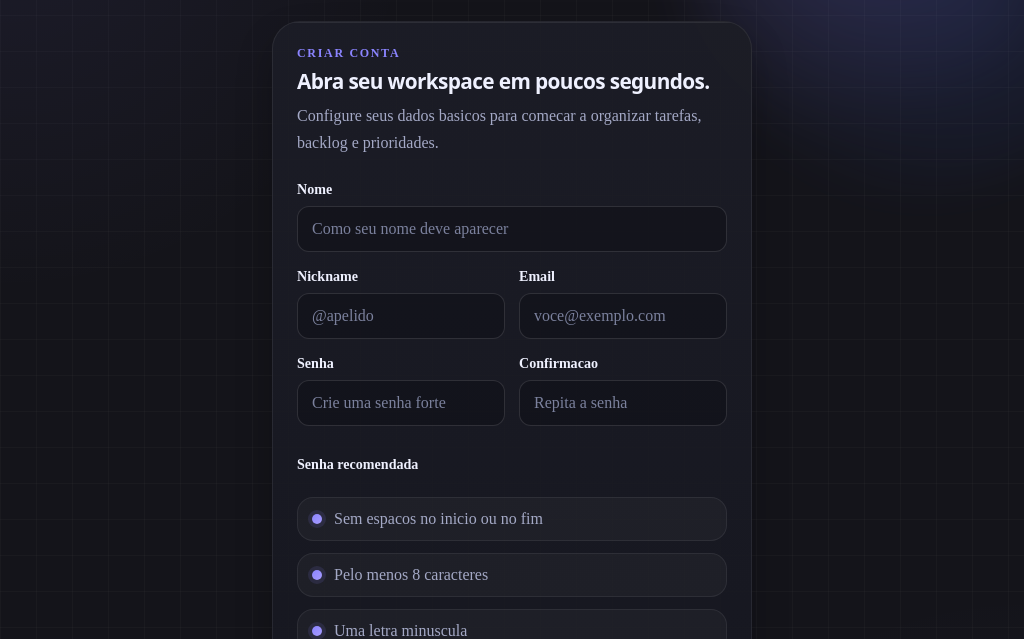
Test: App smoke flows › blocks weak passwords before submitting the register form
expect the heading "Abra seu workspace em poucos segundos." is shown: met, box [297,71,727,92]
Type "Teste QA" into the field labelled "Nome" at [512, 229], box [297,206,727,252]
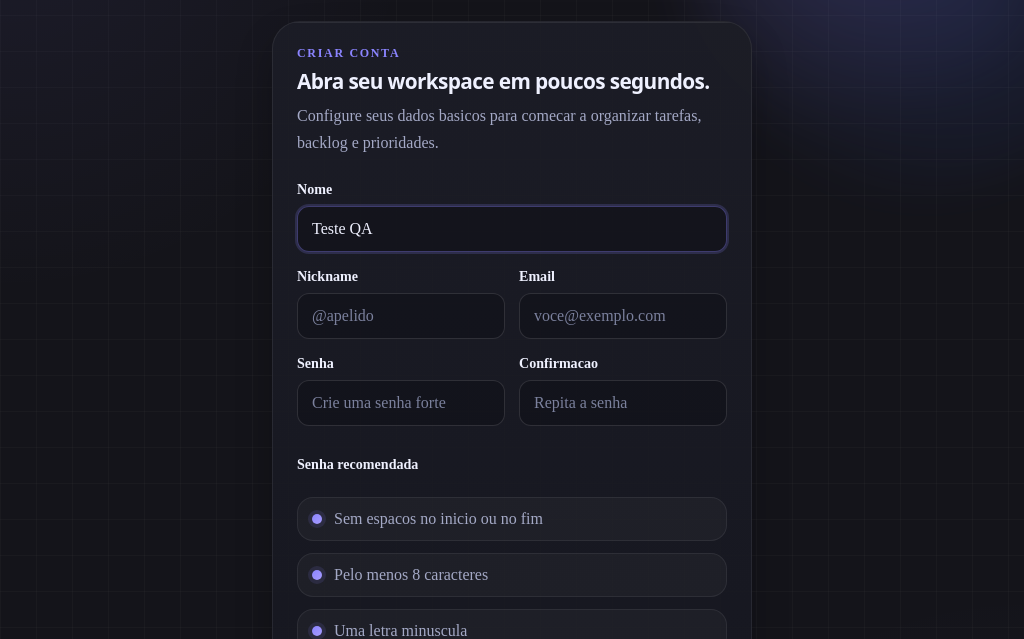
Type "teste-qa" into the field labelled "Nickname" at [401, 316], box [297,293,505,339]
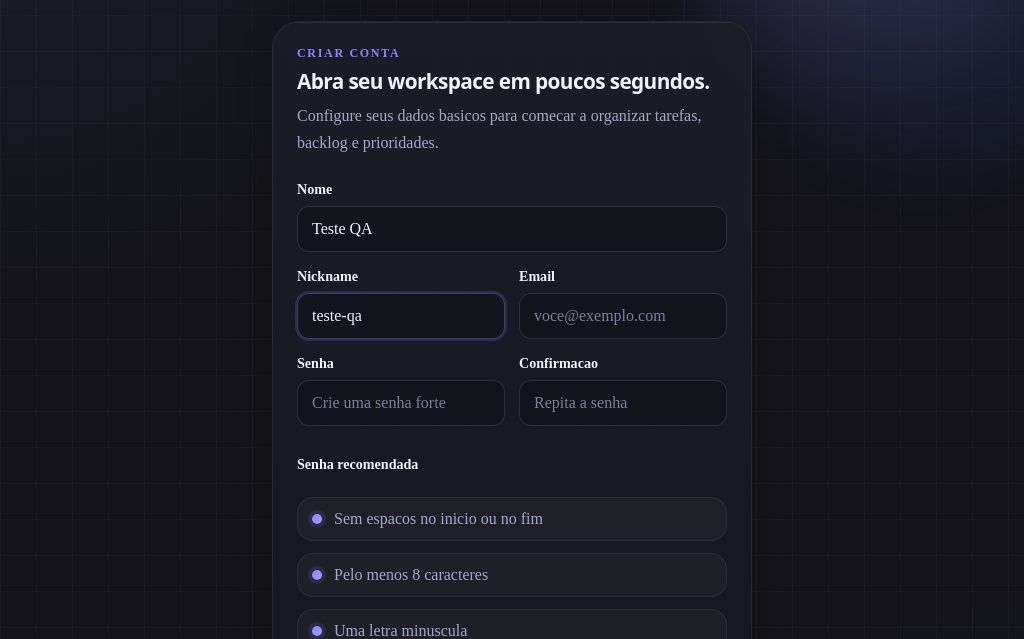
Type "teste@example.com" into the field labelled "Email" at [623, 316], box [519,293,727,339]
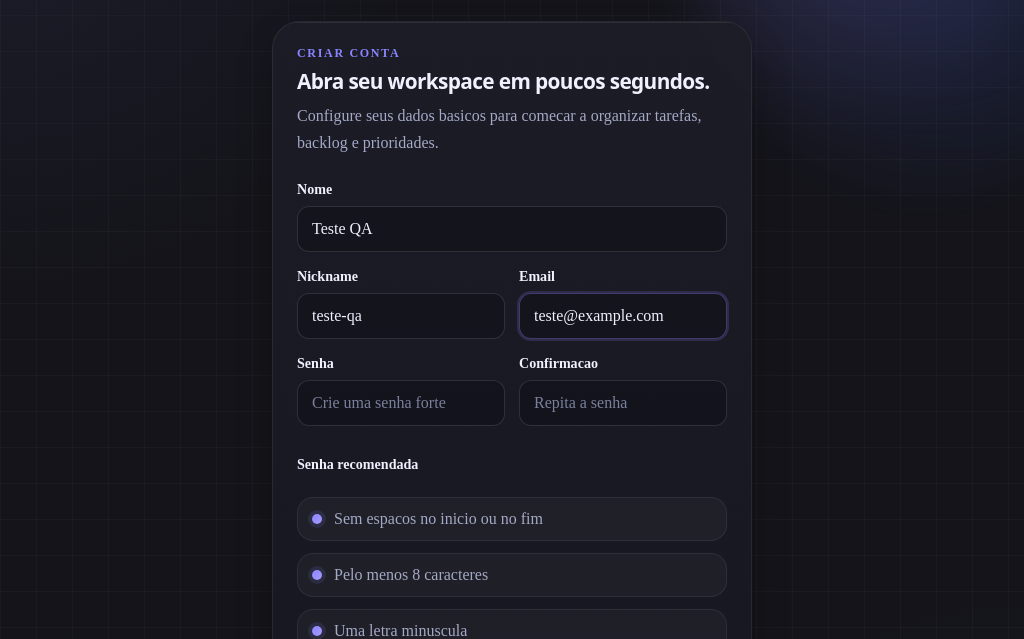
Type "12345678" into the password field labelled "Senha" at [401, 403], box [297,380,505,426]
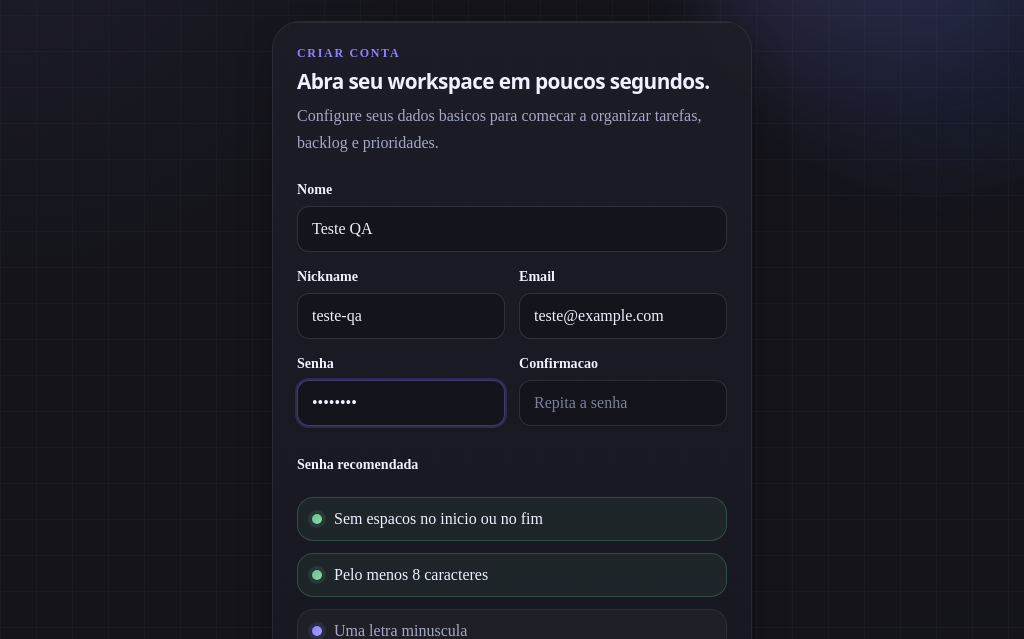
Type "12345678" into the password field labelled "Confirmacao" at [623, 403], box [519,380,727,426]
(page scrolled)
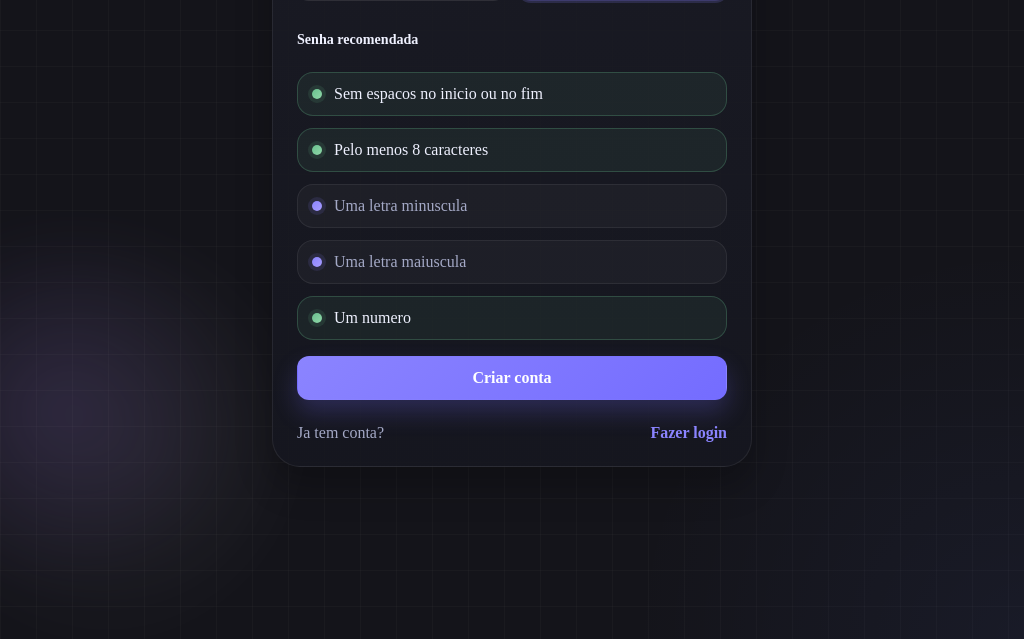
Click the button "Criar conta" at [512, 378], box [297,356,727,400]
(page scrolled)
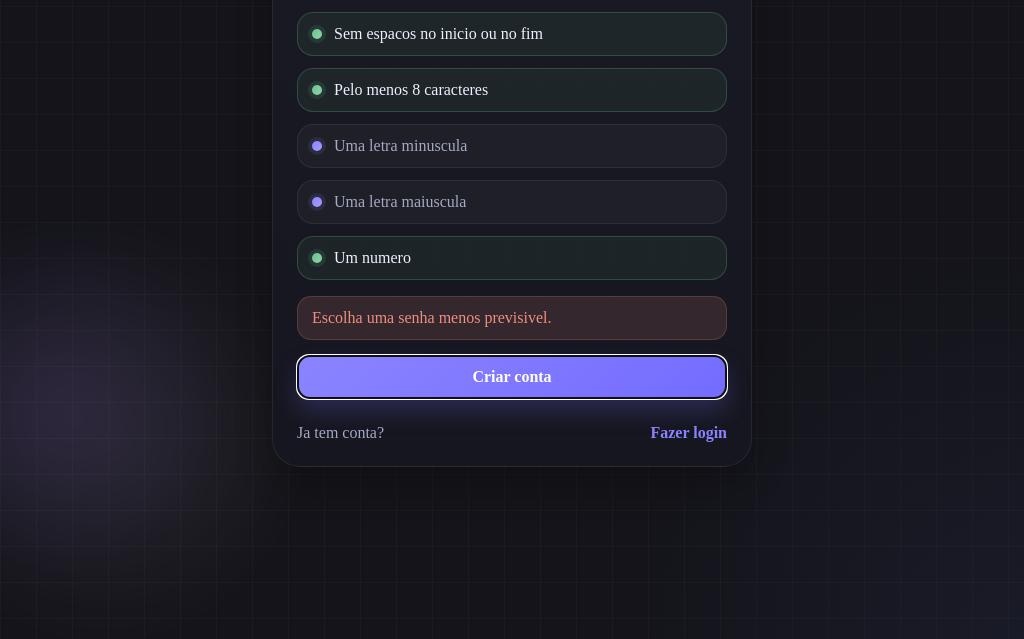
expect the text "Escolha uma senha menos previsivel." is shown: met, box [297,296,727,340]
